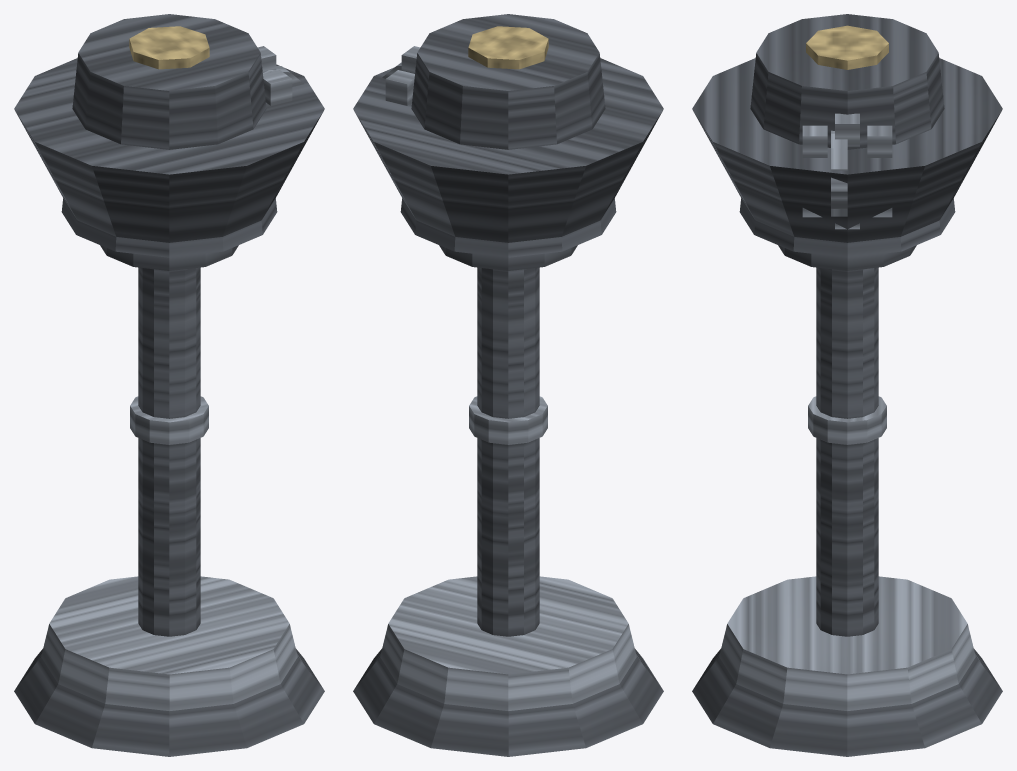
Rendered from oil_lamp.fbx.
The picture shows the model from 3 angles, left to right: view 1: azimuth 30°, elevation 25°; view 2: azimuth 150°, elevation 25°; view 3: azimuth 270°, elevation 25°; orthographic projection.
Visible parts, largest first — view 1: oil_lamp; view 2: oil_lamp; view 3: oil_lamp.
Boxes of the visible parts, x1=… form: oil_lamp: x1=14, y1=14, x2=324, y2=756; oil_lamp: x1=353, y1=14, x2=663, y2=756; oil_lamp: x1=692, y1=14, x2=1002, y2=756.
Size of the model in its own units: 15 by 34.5 by 15.
